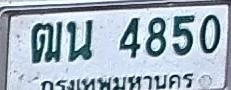0: (199, 14, 220, 53)
4: (119, 17, 140, 58)
5: (172, 15, 194, 56)
8: (145, 16, 166, 56)
A18: (31, 21, 62, 63)
A25: (66, 20, 93, 62)
BKK: (36, 69, 198, 90)
